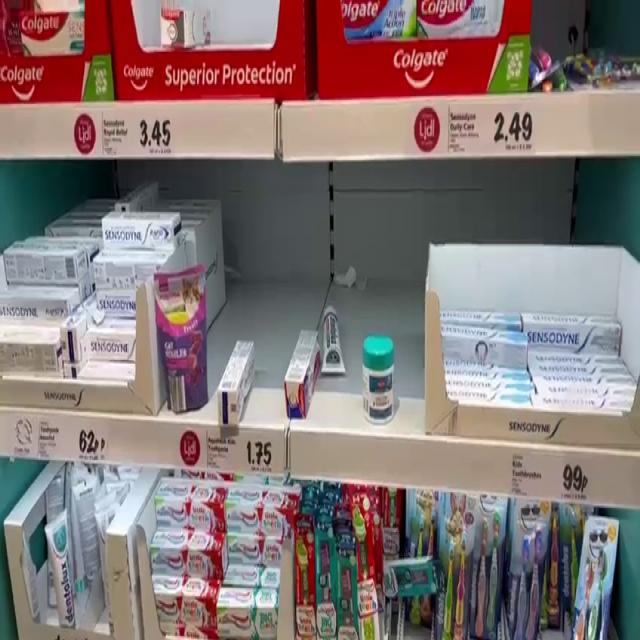Other: (157, 258, 204, 428), (360, 332, 399, 425), (316, 301, 350, 377)
Toothbrush: (510, 505, 557, 640), (438, 488, 479, 640), (410, 485, 448, 640), (473, 497, 511, 640), (349, 472, 374, 640), (331, 533, 359, 640), (294, 527, 320, 640), (314, 522, 338, 640)
Toothpaste: (40, 524, 83, 640), (209, 335, 257, 437), (144, 574, 222, 634), (98, 217, 185, 266), (436, 322, 530, 367), (2, 246, 89, 293), (0, 316, 72, 370), (526, 314, 628, 352), (152, 488, 226, 540), (209, 587, 280, 637), (223, 484, 295, 533), (78, 319, 136, 377), (147, 539, 225, 582), (216, 535, 287, 580), (286, 330, 322, 415)
